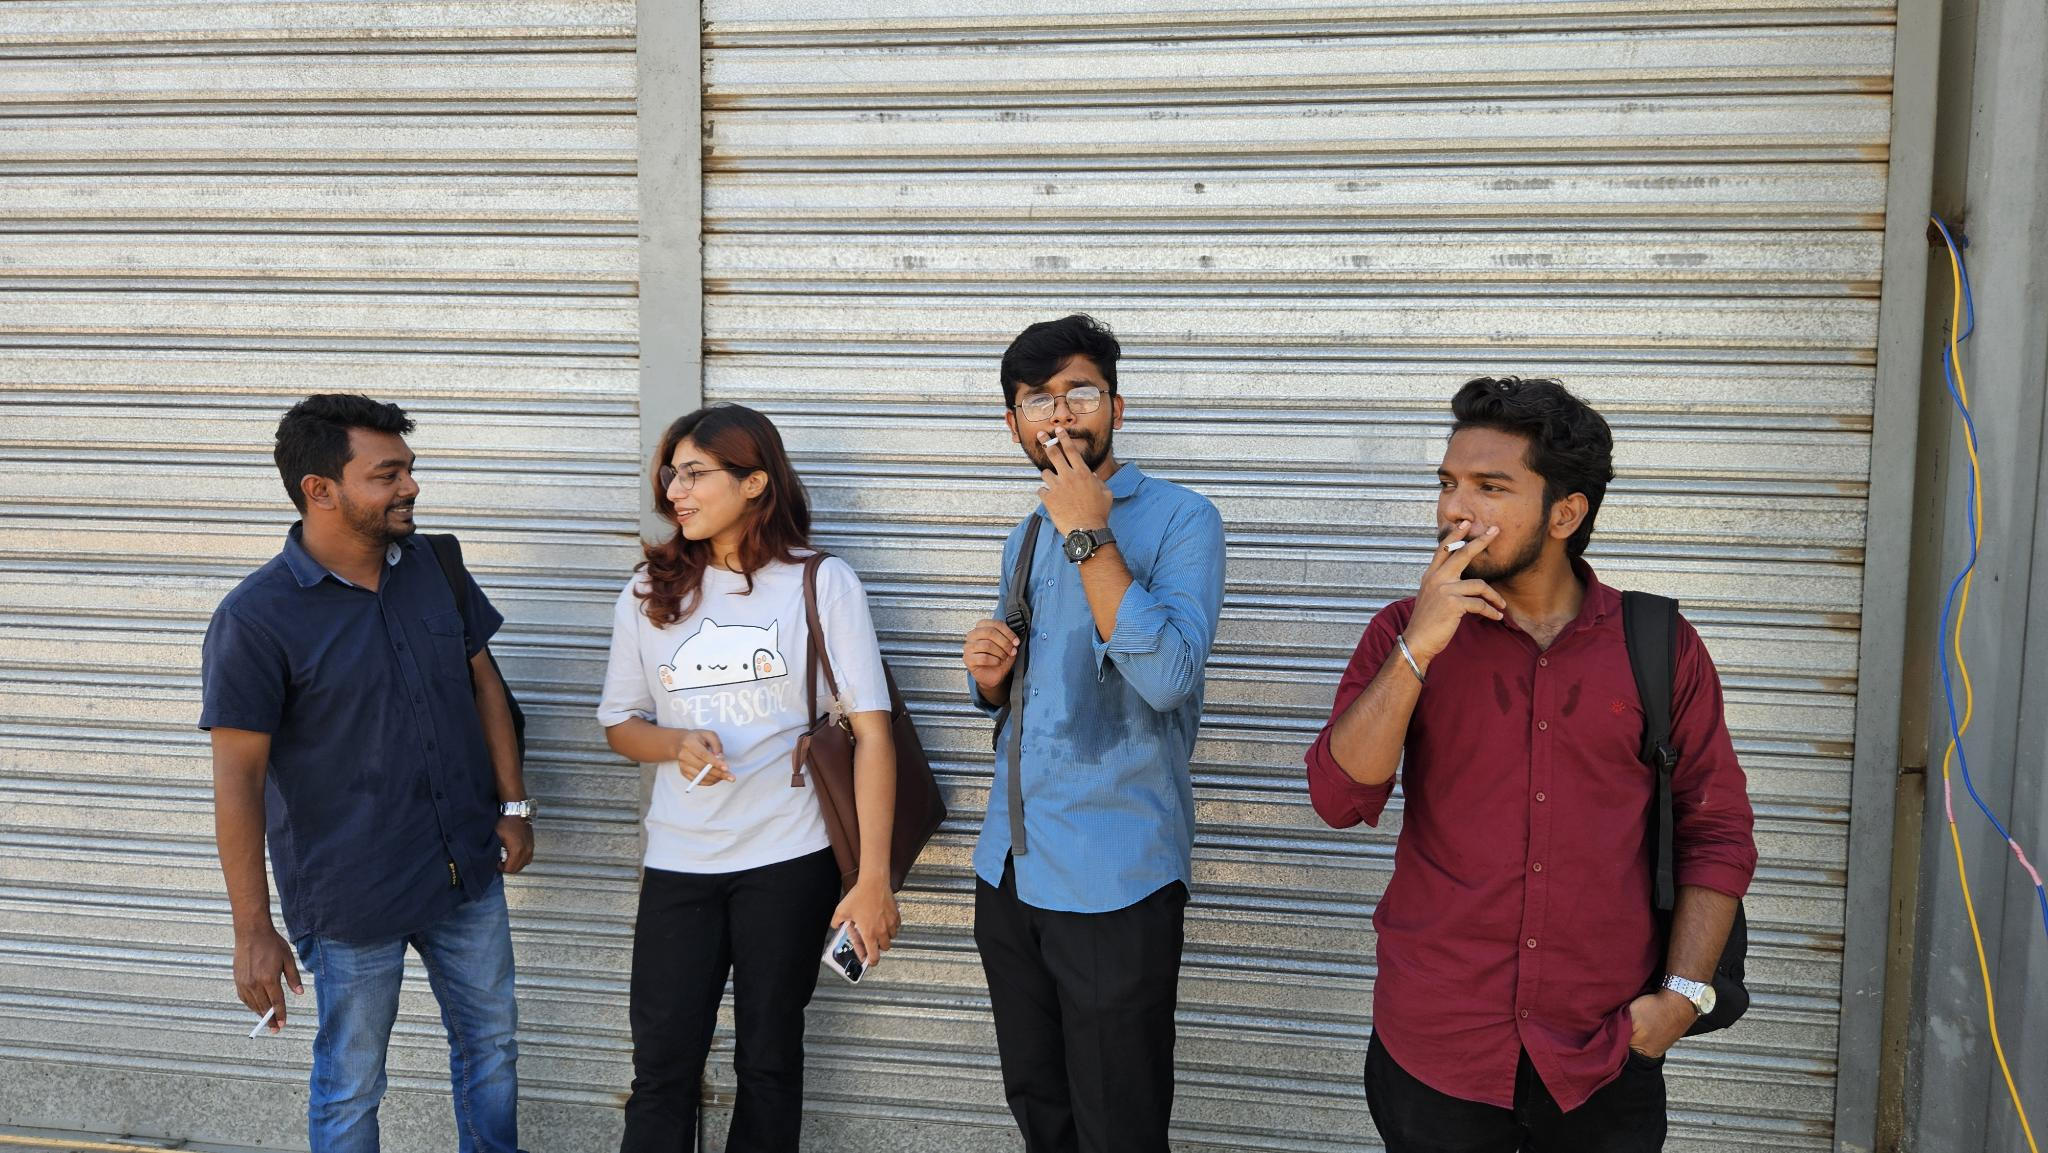cigarette: (684, 761, 716, 796), (248, 1005, 276, 1041), (1440, 539, 1470, 554), (1041, 434, 1061, 450)
smoker: (1304, 377, 1757, 1153), (598, 405, 947, 1153), (198, 395, 537, 1153), (962, 314, 1228, 1153)
